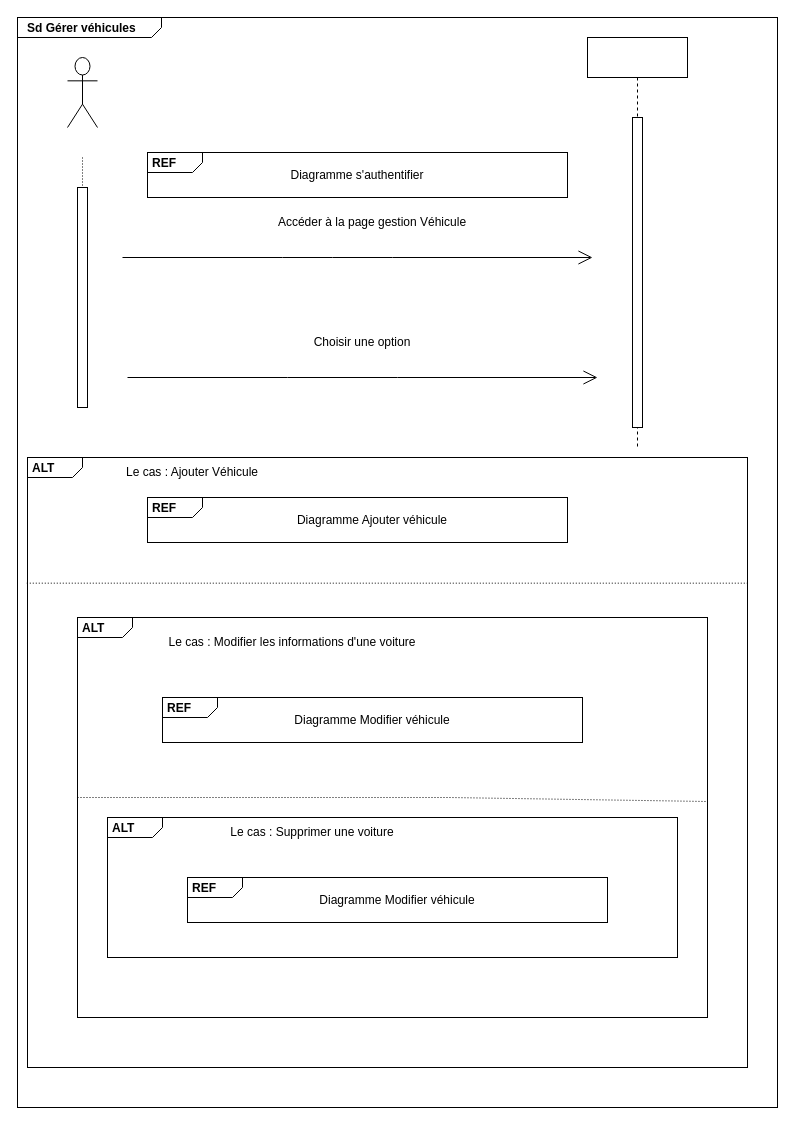
The diagram is 795 pixels wide and 1133 high, and some of its shapes have lost their labels. The box of each missing label's shape, as (x1, y1, x2, y2) in pixels:
Secrétaire: (66, 56, 98, 128)
Système: (586, 36, 688, 448)
